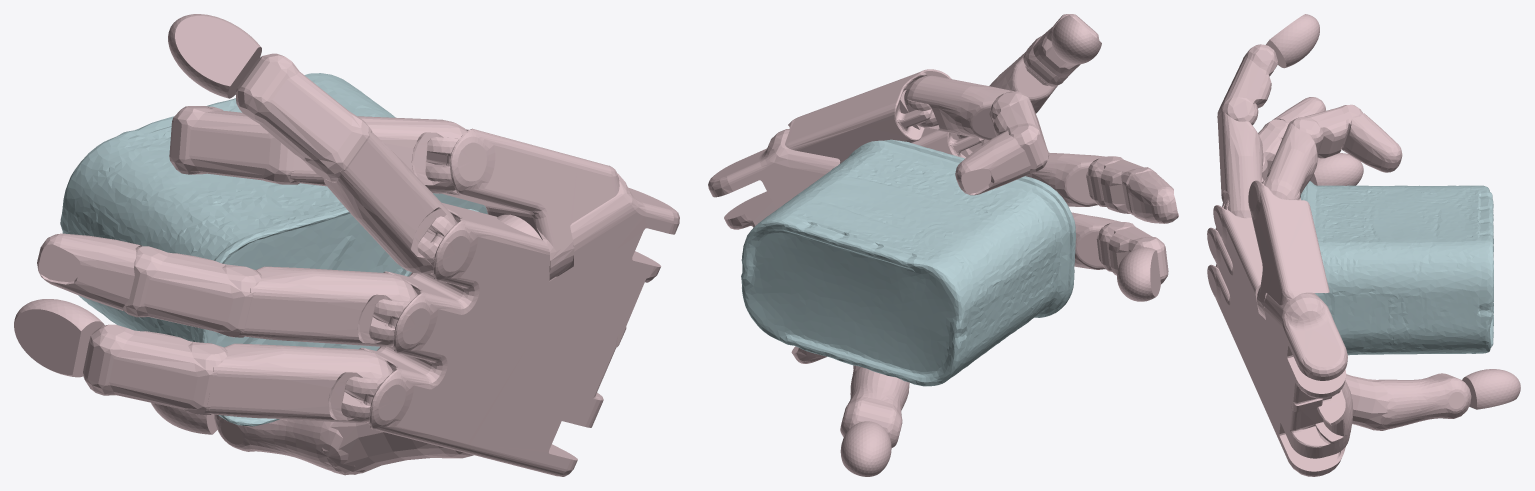
The model's file is grasp_4.glb.
The picture shows the model from 3 angles, left to right: view 1: azimuth 30°, elevation 25°; view 2: azimuth 150°, elevation 25°; view 3: azimuth 270°, elevation 25°; orthographic projection. The views are drawn at different scales.
Visible parts, largest first — view 1: world; view 2: world; view 3: world.
Boxes of the visible parts, left/top/right/bottom form: world: left=14, top=14, right=679, bottom=476; world: left=708, top=14, right=1178, bottom=476; world: left=1207, top=14, right=1520, bottom=476.
Bounding box in the file's own units: 0.2004 × 0.1654 × 0.1347.
